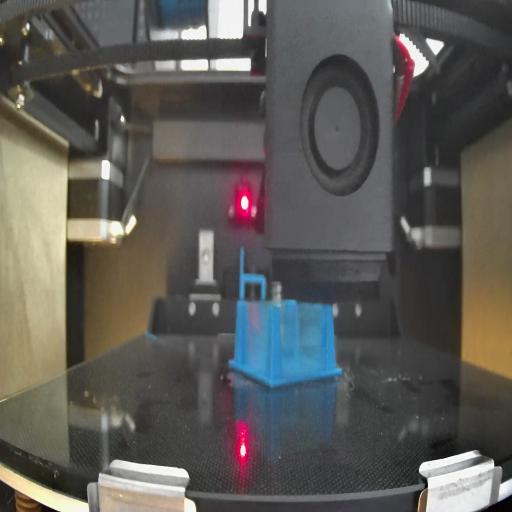stringing: (278, 299, 326, 381), (242, 304, 268, 380)
